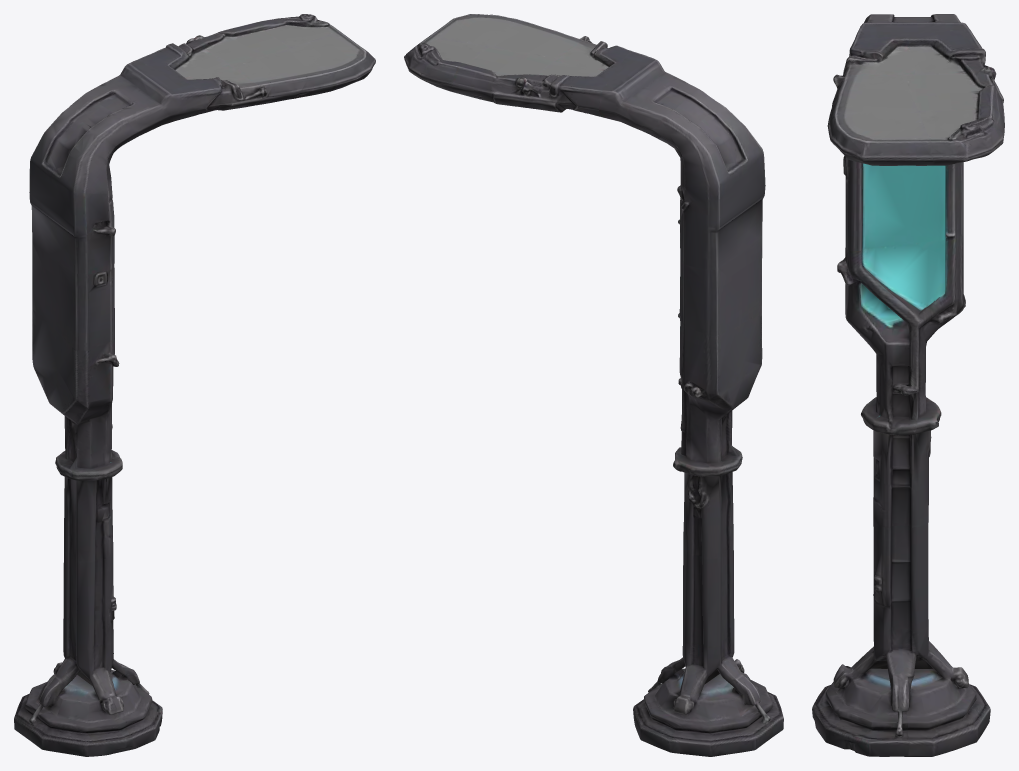
Rendered from lamp.glb.
3 renders of one model, left to right at view 1: azimuth 30°, elevation 25°; view 2: azimuth 150°, elevation 25°; view 3: azimuth 270°, elevation 25°, orthographic. The views are drawn at different scales.
Visible parts, largest first — view 1: node_ba63138a-2cb1-4b11-adc1-c438cdcfd3f9; view 2: node_ba63138a-2cb1-4b11-adc1-c438cdcfd3f9; view 3: node_ba63138a-2cb1-4b11-adc1-c438cdcfd3f9.
Boxes of the visible parts, <box> form: node_ba63138a-2cb1-4b11-adc1-c438cdcfd3f9: <box>14,14,375,756</box>; node_ba63138a-2cb1-4b11-adc1-c438cdcfd3f9: <box>404,14,783,756</box>; node_ba63138a-2cb1-4b11-adc1-c438cdcfd3f9: <box>812,14,1004,756</box>.
Size of the model in its own units: 0.5531 by 0.9999 by 0.2361.
Materials: 1 (1 with a texture image).
